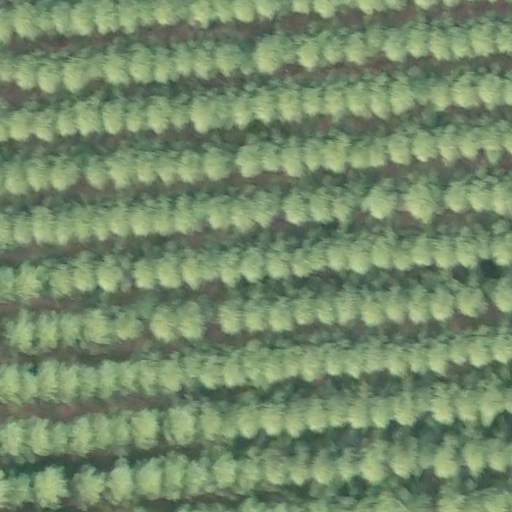eucalipto: (252, 30, 296, 75), (70, 461, 112, 506), (31, 465, 71, 509), (362, 175, 401, 220), (132, 456, 171, 501), (129, 402, 166, 449), (215, 294, 250, 339), (388, 74, 422, 120), (430, 437, 467, 479), (202, 189, 238, 232), (98, 251, 132, 296), (407, 175, 441, 220), (234, 137, 268, 182), (242, 294, 279, 334), (428, 385, 465, 425), (216, 244, 250, 287), (75, 92, 108, 136), (278, 187, 314, 227), (50, 152, 85, 193), (15, 260, 50, 301), (72, 251, 106, 293), (66, 410, 95, 459), (406, 277, 436, 324), (188, 95, 223, 135), (406, 18, 437, 63), (453, 68, 486, 110), (155, 243, 185, 289), (357, 292, 393, 330), (408, 126, 442, 166), (155, 352, 188, 393), (185, 243, 217, 285), (27, 201, 58, 244), (82, 308, 117, 346), (431, 285, 466, 323), (110, 304, 144, 343), (82, 148, 112, 192), (37, 52, 70, 92), (267, 292, 298, 334), (457, 282, 490, 321), (211, 451, 244, 490), (202, 142, 234, 182), (346, 390, 377, 431), (151, 301, 181, 343), (213, 42, 246, 80), (393, 389, 425, 428), (25, 153, 57, 192), (425, 335, 456, 375), (108, 463, 139, 503), (293, 241, 327, 277), (307, 187, 338, 226), (447, 20, 477, 60), (95, 359, 124, 400), (31, 105, 62, 143), (111, 147, 139, 189), (371, 78, 401, 117), (383, 287, 413, 326), (373, 230, 403, 269), (128, 44, 156, 85), (101, 47, 131, 85), (253, 84, 282, 123), (303, 78, 331, 118), (444, 178, 474, 215), (151, 195, 178, 236), (467, 331, 495, 370), (116, 359, 144, 398), (457, 121, 484, 161), (322, 27, 351, 64), (297, 33, 325, 71), (175, 150, 205, 185), (147, 98, 176, 134), (263, 243, 291, 279), (57, 360, 79, 405), (302, 346, 331, 380), (237, 401, 262, 440), (312, 448, 339, 484), (263, 397, 286, 437), (102, 99, 127, 135), (383, 27, 411, 59), (49, 260, 73, 297), (347, 81, 372, 116), (59, 311, 83, 346), (324, 85, 347, 121), (305, 394, 328, 430), (390, 132, 414, 163)
